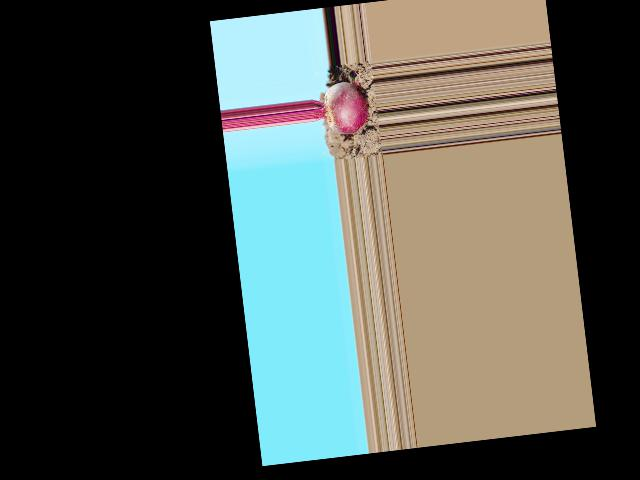beet: (311, 79, 371, 137)
